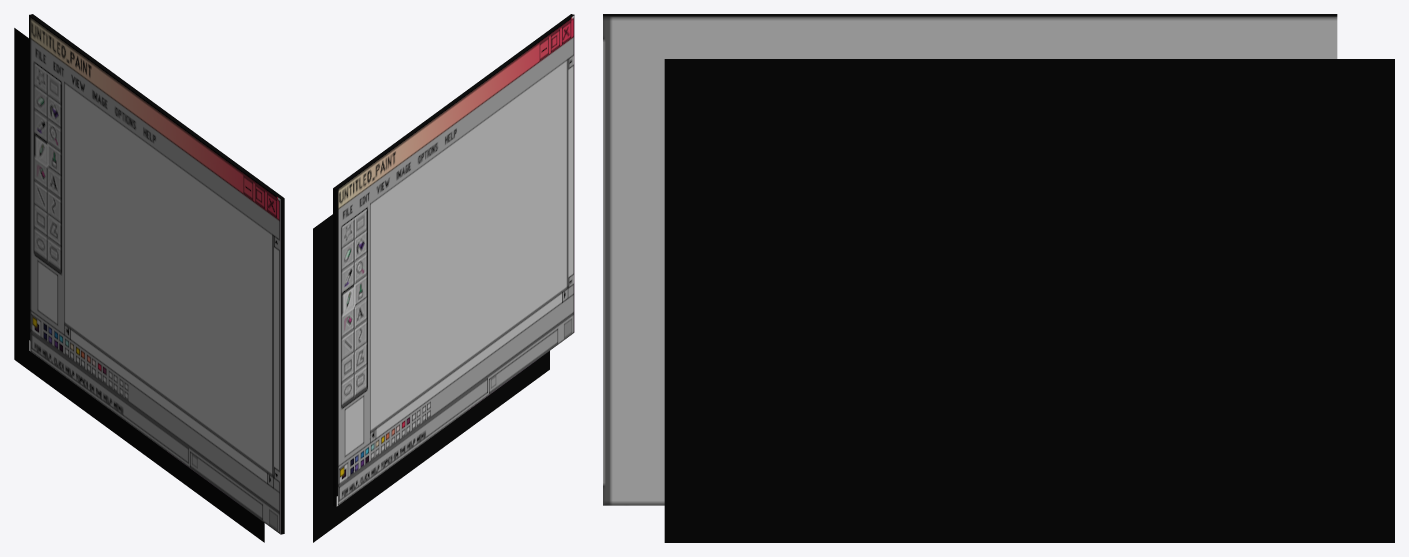
The model's file is Frame_Program_Retro_02.glb.
The picture shows the model from 3 angles, left to right: view 1: azimuth 30°, elevation 25°; view 2: azimuth 150°, elevation 25°; view 3: azimuth 270°, elevation 25°; orthographic projection. The views are drawn at different scales.
Visible parts, largest first — view 1: Frame_Program_Retro_02; view 2: Frame_Program_Retro_02; view 3: Frame_Program_Retro_02.
Boxes of the visible parts, bbox=[...] form: Frame_Program_Retro_02: bbox=[14, 14, 284, 542]; Frame_Program_Retro_02: bbox=[313, 14, 574, 542]; Frame_Program_Retro_02: bbox=[603, 14, 1394, 542].
Size of the model in its own units: 0.0596 by 4.03 by 5.51.
1 material, 1 textured.
